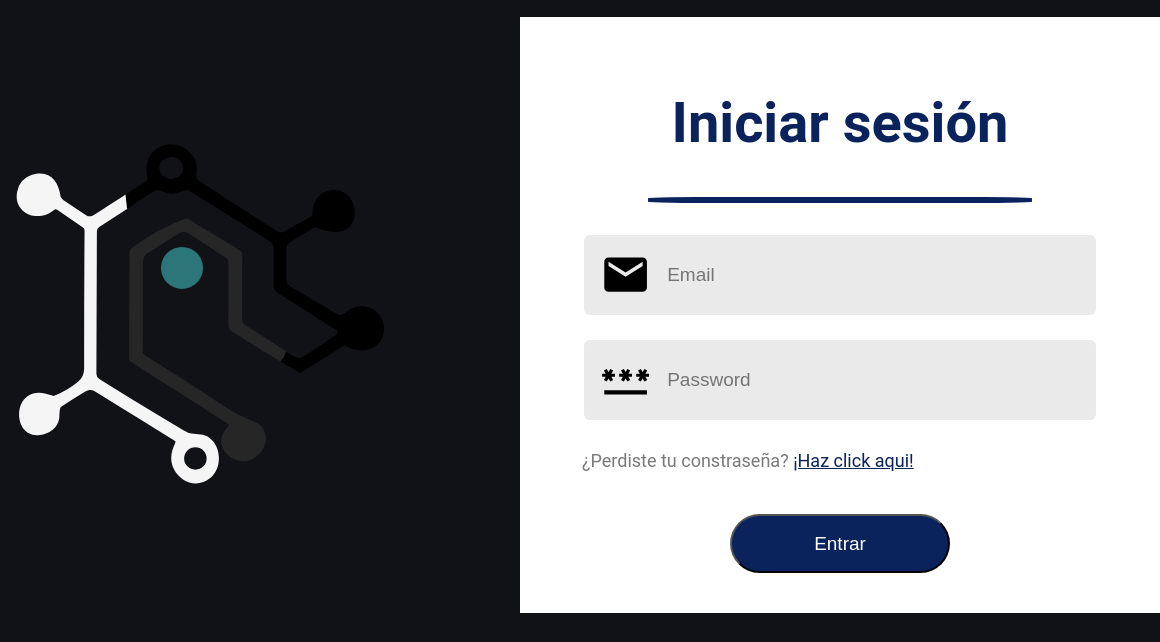
Login page › shows validation message when fields are empty
The width and height of the screenshot is (1160, 642).
Click the button "Entrar" at (840, 544), box [730, 514, 950, 573]
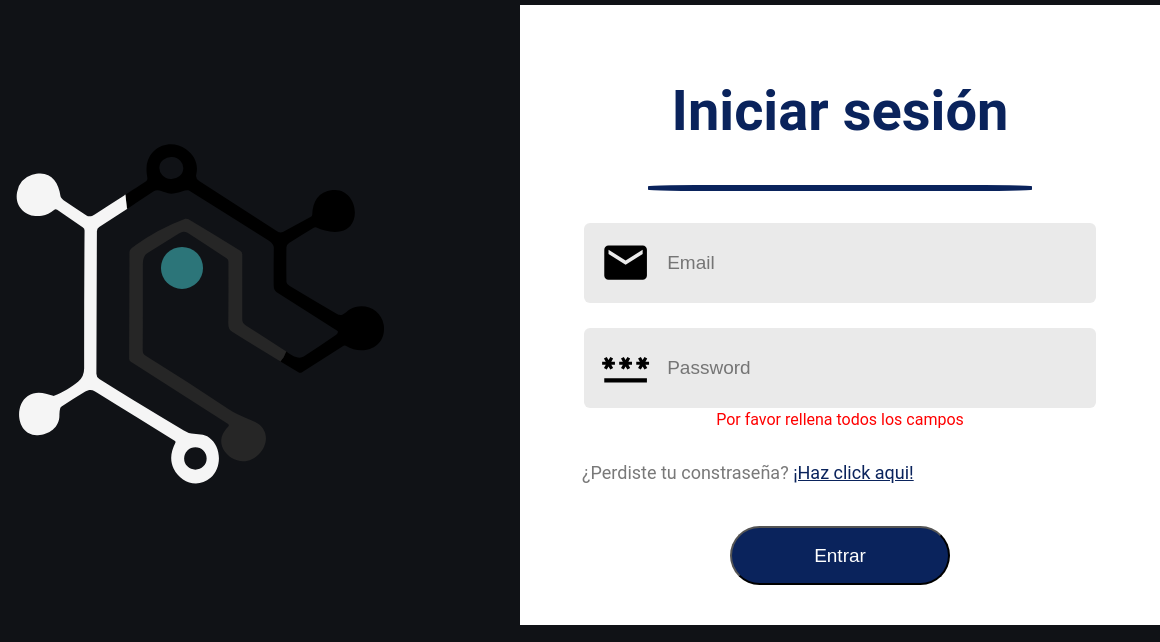
Expected: the text "Por favor rellena todos los campos" is shown, [716, 410, 964, 429]
